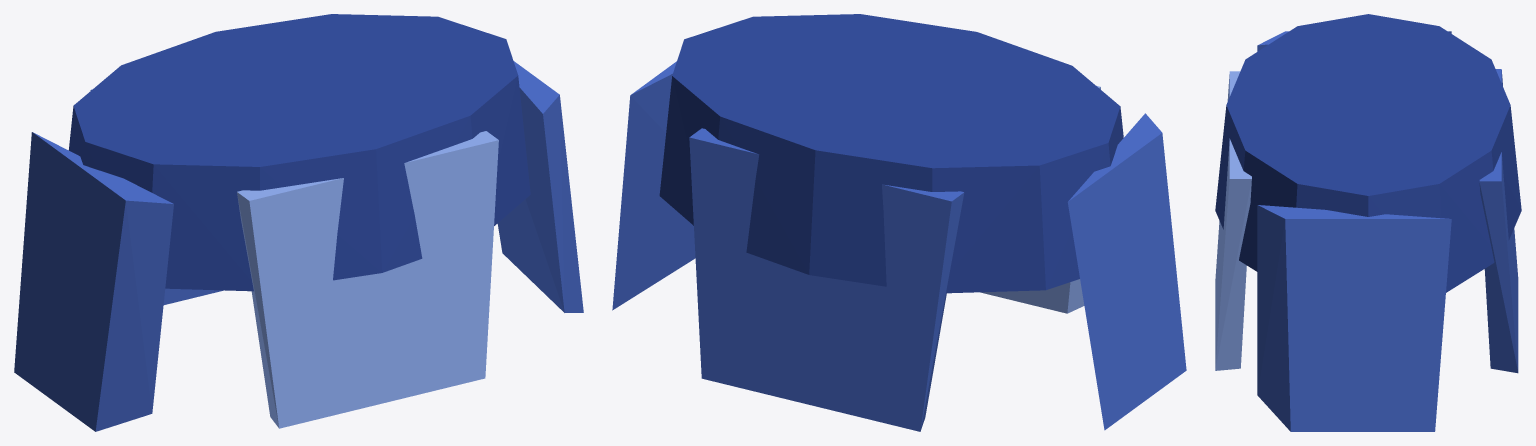
File: gear_mithril_legs_hips_f.glb
3 views of the same model, side by side, from view 1: azimuth 30°, elevation 25°; view 2: azimuth 150°, elevation 25°; view 3: azimuth 270°, elevation 25° (orthographic). The views are drawn at different scales.
Visible parts, largest first — view 1: gear_mithril_legs_hips_f; view 2: gear_mithril_legs_hips_f; view 3: gear_mithril_legs_hips_f.
Boxes of the visible parts, x1,y1,x2,y2 form: gear_mithril_legs_hips_f: (14,14,583,431); gear_mithril_legs_hips_f: (612,14,1186,431); gear_mithril_legs_hips_f: (1215,14,1521,431).
Bounding box in the file's own units: 0.45 × 0.22 × 0.276.
